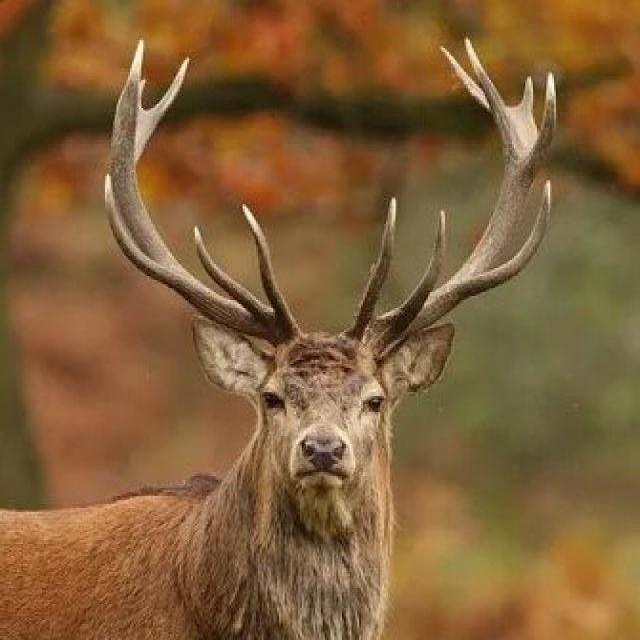deer: (0, 5, 614, 640)
